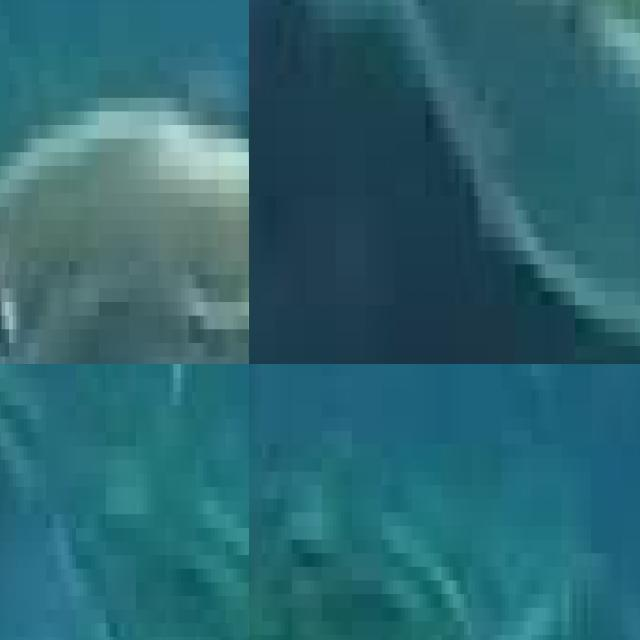fish: (0, 0, 249, 364), (0, 582, 249, 640)
